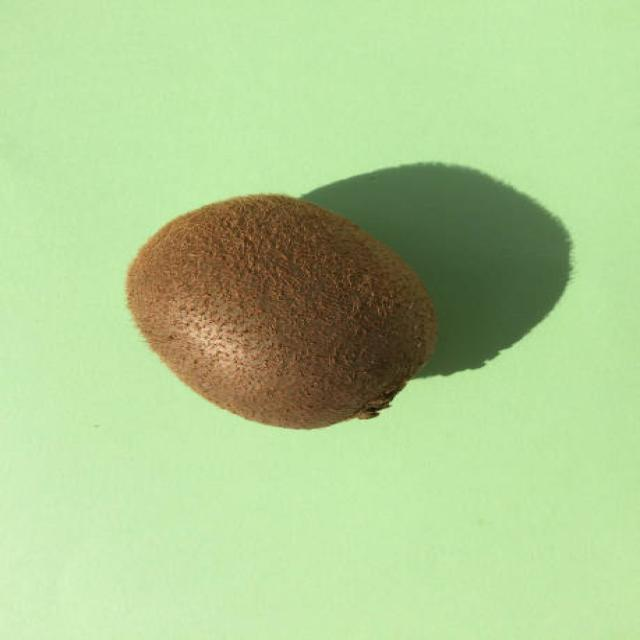kiwi: (127, 196, 438, 429)
